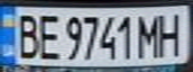1: (115, 11, 136, 60)
4: (100, 12, 121, 61)
7: (78, 12, 100, 61)
9: (60, 11, 84, 61)
B: (9, 10, 42, 60)
E: (33, 10, 63, 61)
H: (154, 8, 190, 57)
M: (136, 11, 163, 58)
